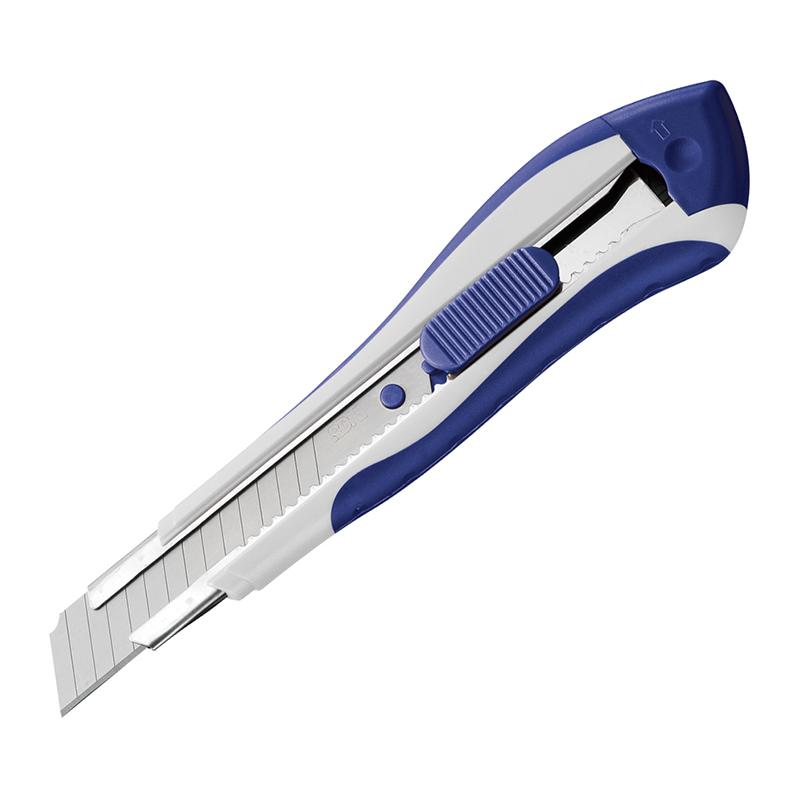cutter: (46, 77, 752, 723)
